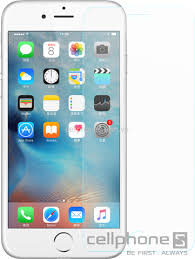iphone: (1, 1, 127, 259)
iphone7: (1, 1, 127, 259)
